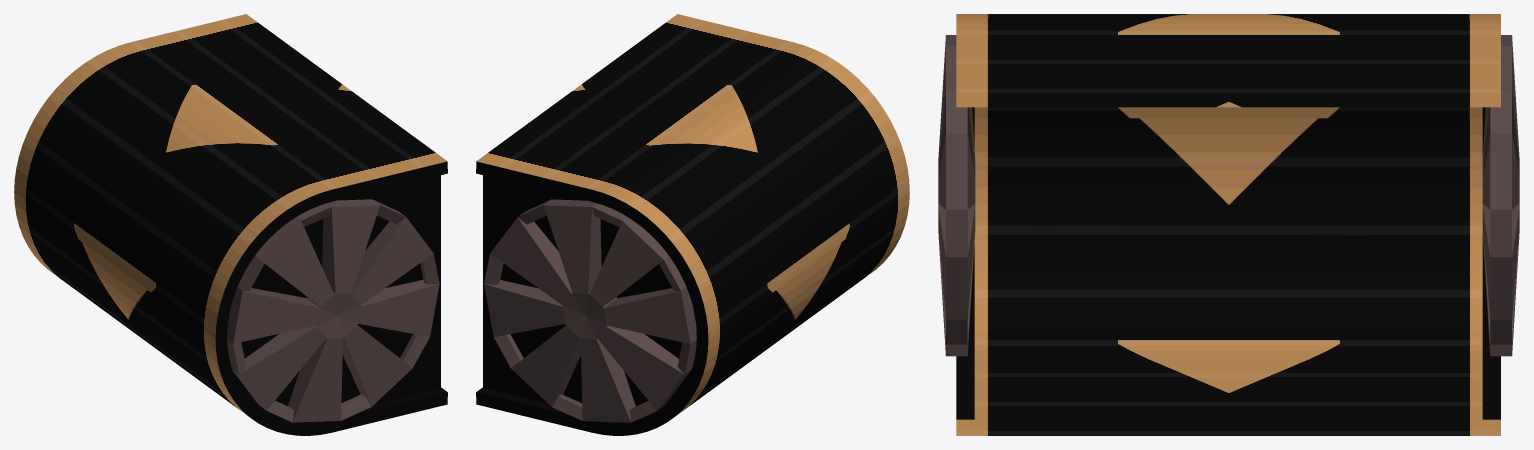
Rendered from conveyorbelt_end.gltf.
The picture shows the model from 3 angles, left to right: view 1: azimuth 30°, elevation 25°; view 2: azimuth 150°, elevation 25°; view 3: azimuth 270°, elevation 25°; orthographic projection. The views are drawn at different scales.
Visible parts, largest first — view 1: belt.002, hjul.004; view 2: belt.002, hjul.003; view 3: belt.002, hjul.003, hjul.004.
Boxes of the visible parts, x1,y1,x2,y2 form: belt.002: [14, 14, 447, 435]; hjul.004: [227, 199, 439, 422]; belt.002: [476, 14, 909, 435]; hjul.003: [484, 199, 696, 422]; belt.002: [956, 14, 1500, 435]; hjul.003: [1482, 35, 1519, 356]; hjul.004: [938, 35, 975, 356].
Bounding box in the file's own units: 1 × 1 × 1.6.
3 materials, 1 textured.
